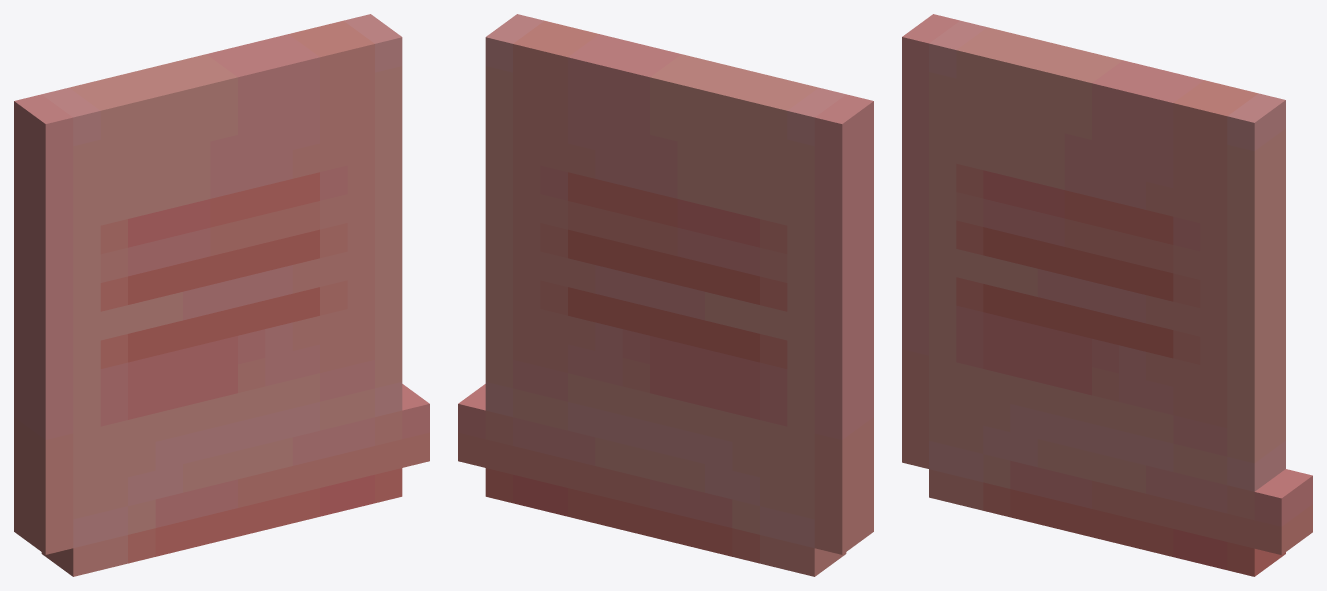
File: page-red.glb
The picture shows the model from 3 angles, left to right: view 1: azimuth 30°, elevation 25°; view 2: azimuth 150°, elevation 25°; view 3: azimuth 330°, elevation 25°; orthographic projection.
Parts seen in each view (by area): view 1: prop; view 2: prop; view 3: prop.
Boxes of the visible parts, bbox=[...] form: prop: bbox=[14, 14, 429, 576]; prop: bbox=[458, 14, 873, 576]; prop: bbox=[902, 14, 1312, 576].
Bounding box in the file's own units: 14 × 16 × 2.
